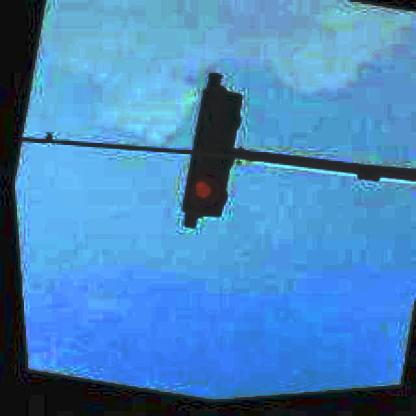Traffic Light -Red-: (168, 87, 250, 228)
